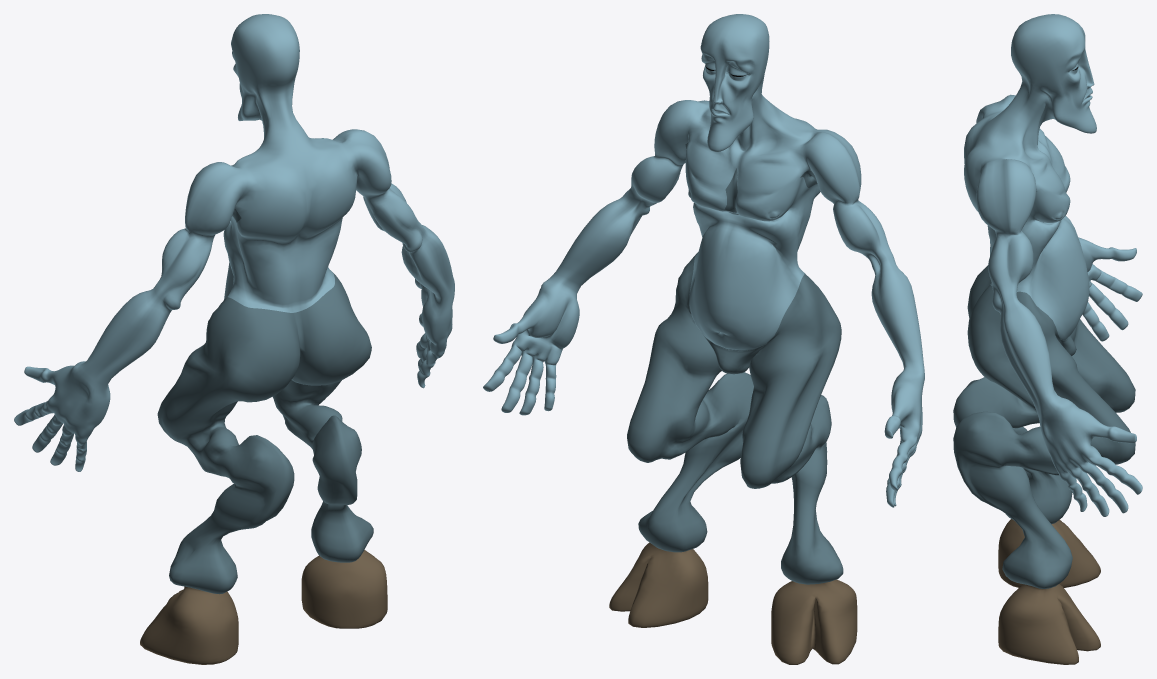
The model's file is Satyr.gltf.
The picture shows the model from 3 angles, left to right: view 1: azimuth 30°, elevation 25°; view 2: azimuth 150°, elevation 25°; view 3: azimuth 270°, elevation 25°; orthographic projection. The views are drawn at different scales.
Bounding box in the file's own units: 4.97 × 6.99 × 2.02.
